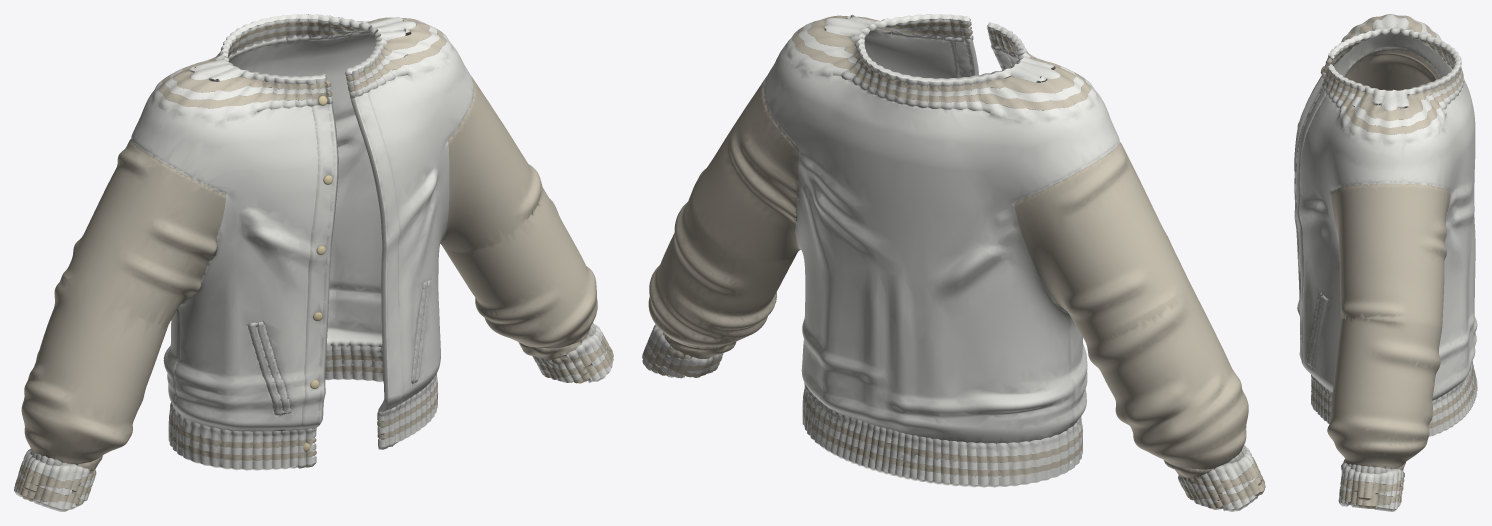
The model's file is 02_chaqueta_varsity_abierta.glb.
3 renders of one model, left to right at view 1: azimuth 30°, elevation 25°; view 2: azimuth 150°, elevation 25°; view 3: azimuth 270°, elevation 25°, orthographic. The views are drawn at different scales.
Visible parts, largest first — view 1: Chaqueta varsity (abierta); view 2: Chaqueta varsity (abierta); view 3: Chaqueta varsity (abierta).
Part boxes in pixels (box(x1,y1,x2,y2)): Chaqueta varsity (abierta): box(14, 14, 613, 511); Chaqueta varsity (abierta): box(642, 14, 1265, 511); Chaqueta varsity (abierta): box(1294, 14, 1477, 511).
Bounding box in the file's own units: 1.01 × 0.621 × 0.3103.
